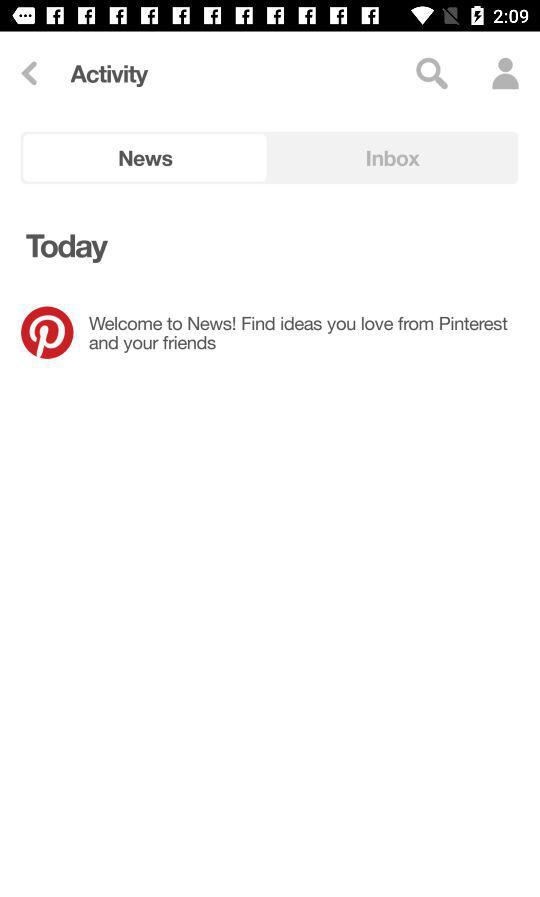Icon: (415, 58, 449, 91), (492, 58, 520, 91), (22, 61, 39, 87)
Image: (21, 307, 75, 361)
Text: (89, 317, 509, 355), (26, 234, 110, 264), (71, 65, 150, 88)
TextButton: (268, 132, 519, 185), (22, 132, 268, 185)
Toolbar: (1, 33, 540, 125)
UpperTaskBar: (1, 1, 540, 33)
